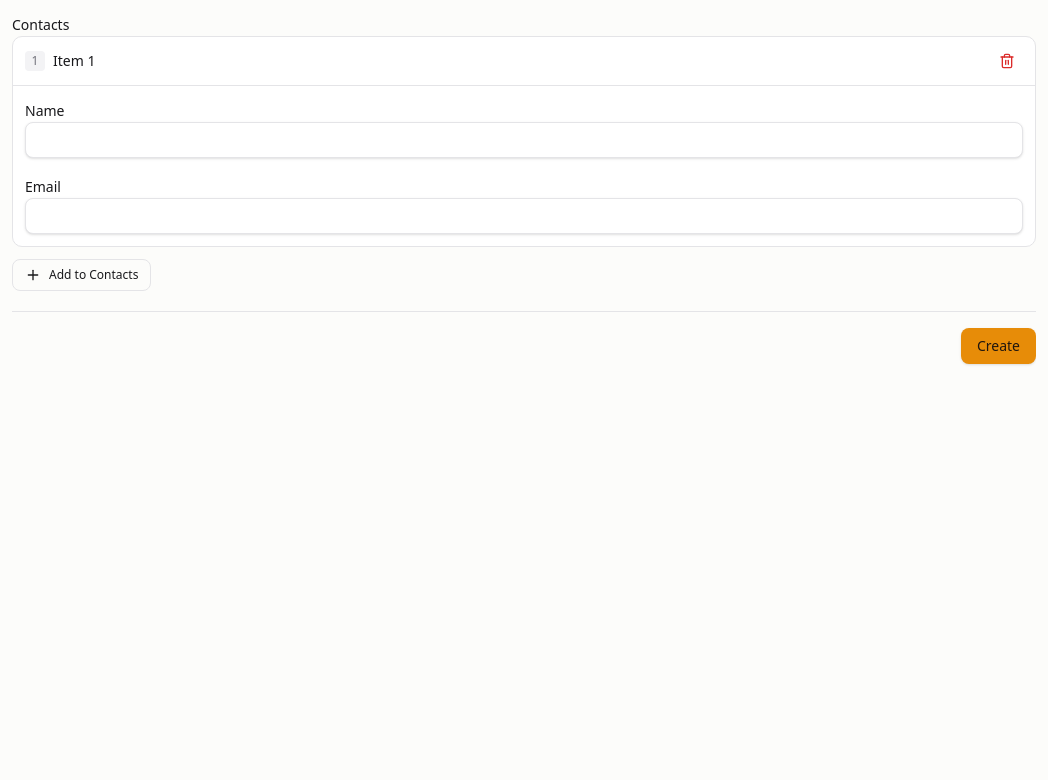
add, delete, clone › appends a blank item
Click the button "Add to Contacts". click: (82, 275)
box: [12,259,151,291]
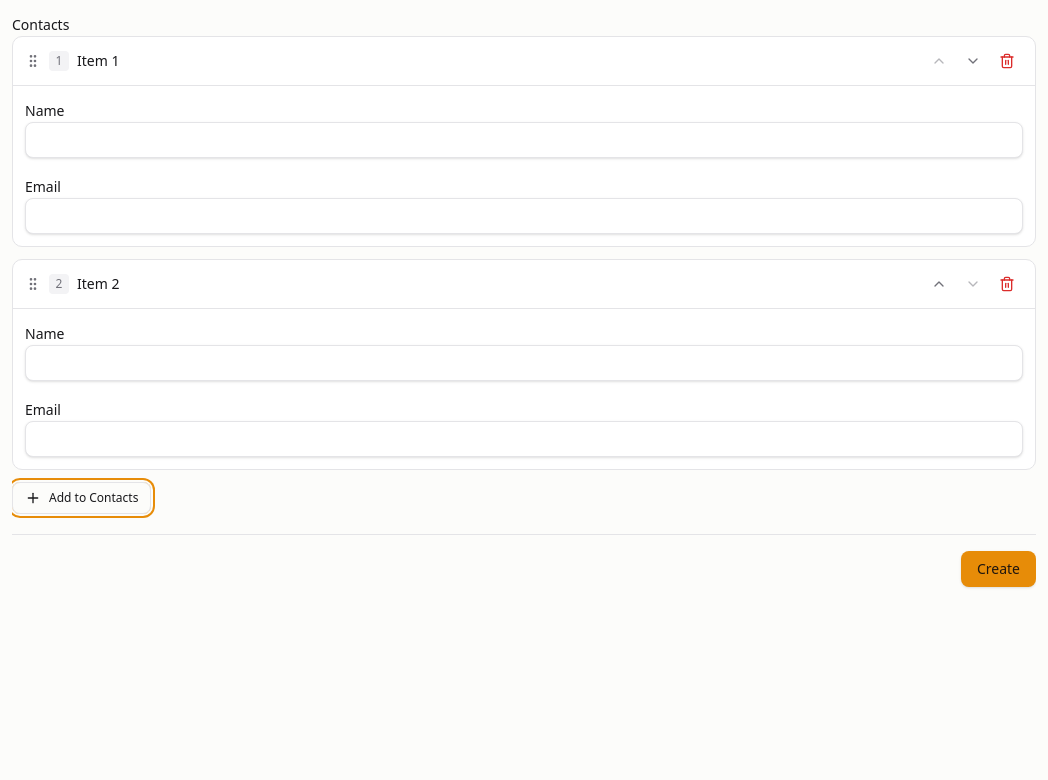
Result: the number of elements labelled "1 Item 1 Name Email" is 2 at [12,36,1036,247]; [12,259,1036,470]
Result: the field labelled "Name" below "Item 2" is empty at [25,345,1023,381]
